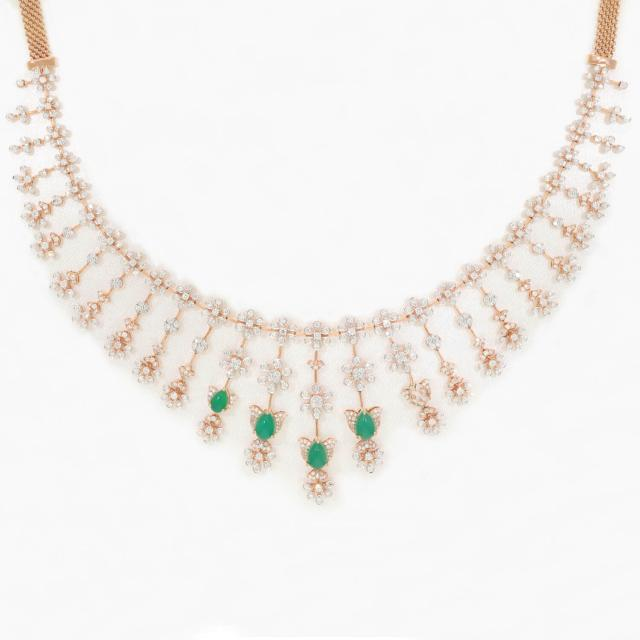missing gem: (410, 382, 428, 406)
